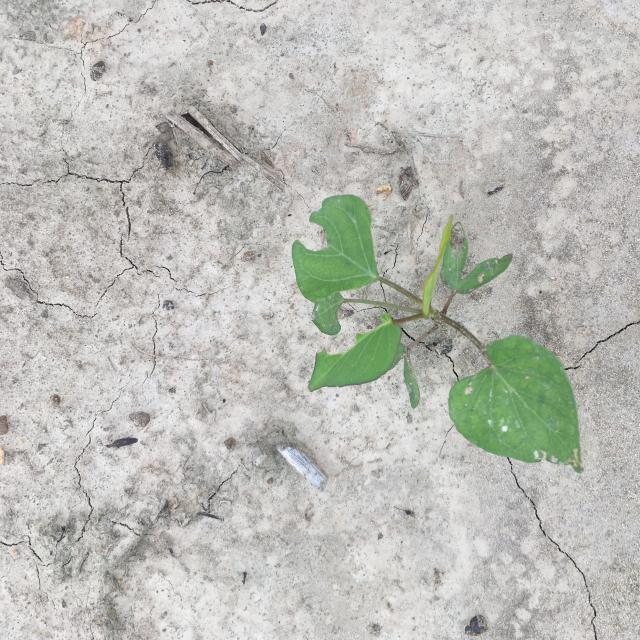MorningGlory: (292, 194, 584, 473)
